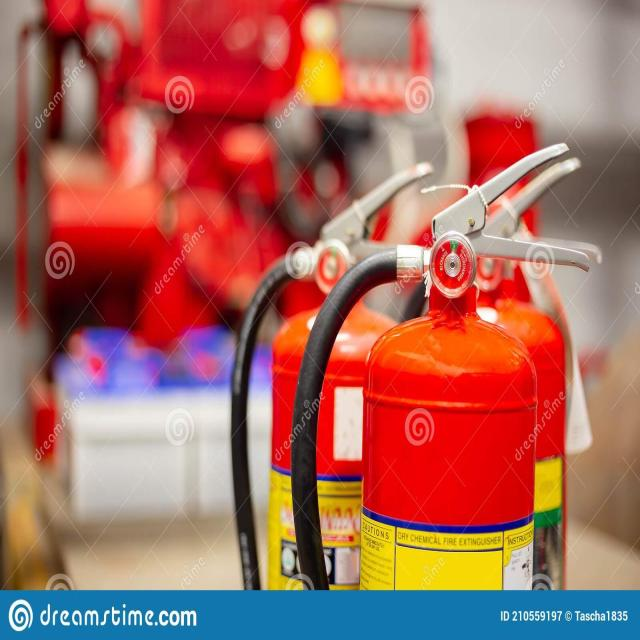fire_extinguisher: (289, 138, 588, 592), (225, 158, 447, 590)
